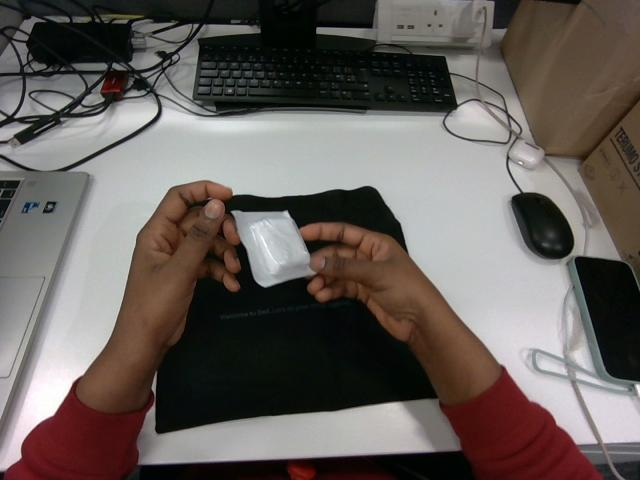gauze: (231, 210, 314, 286)
